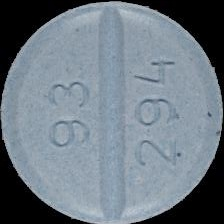63739-048: (0, 0, 224, 224)
